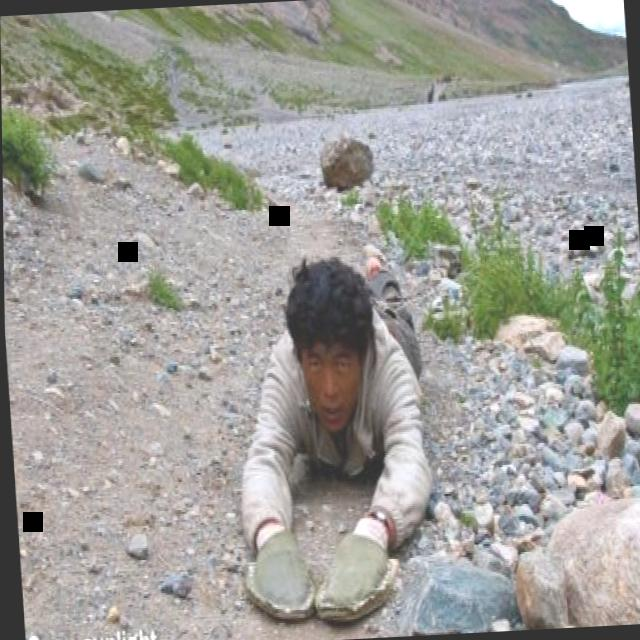Fall-Detected: (206, 228, 464, 632)
